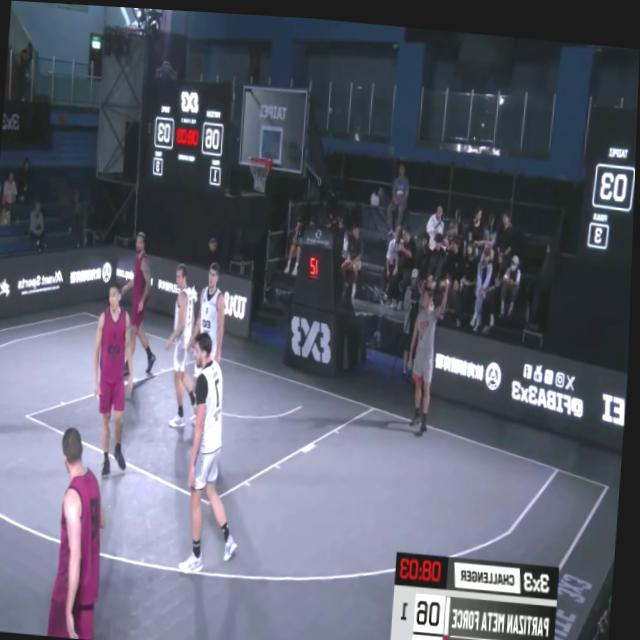hoop: (246, 146, 275, 193)
player: (178, 326, 255, 575), (48, 415, 132, 640), (91, 283, 139, 482), (185, 254, 232, 418), (118, 222, 165, 378), (163, 258, 202, 429)
